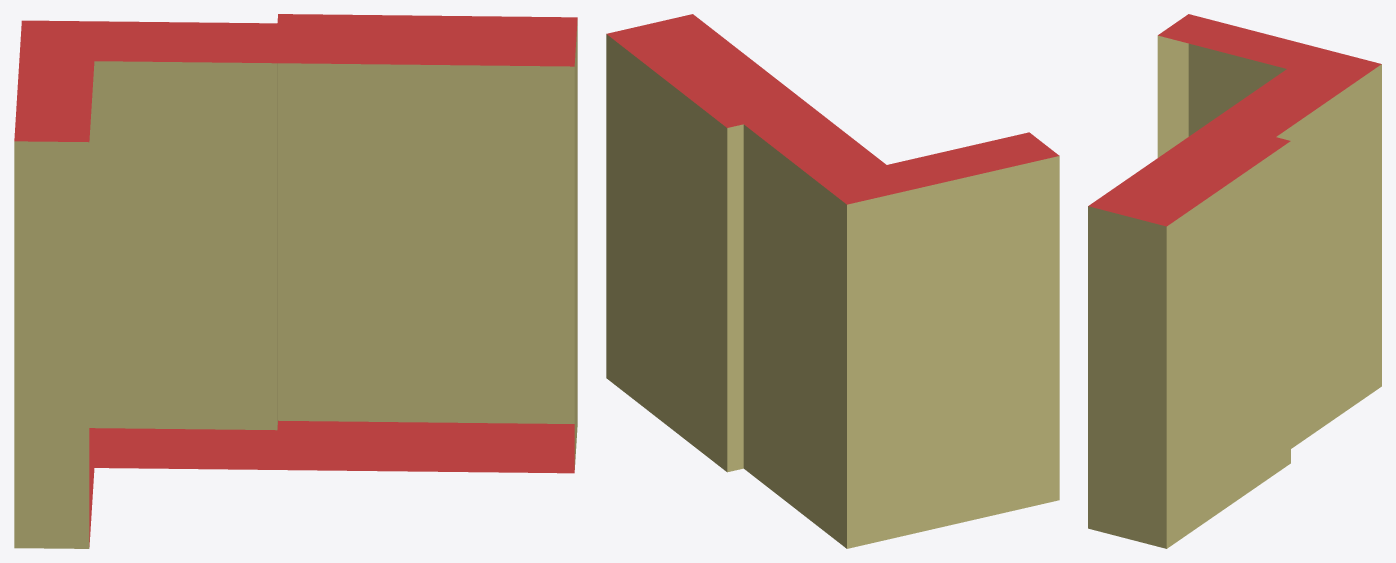
3 renders of one model, left to right at view 1: azimuth 30°, elevation 25°; view 2: azimuth 150°, elevation 25°; view 3: azimuth 270°, elevation 25°, orthographic. The views are drawn at different scales.
Size of the model in its own units: 13.06 by 7.63 by 9.24.
